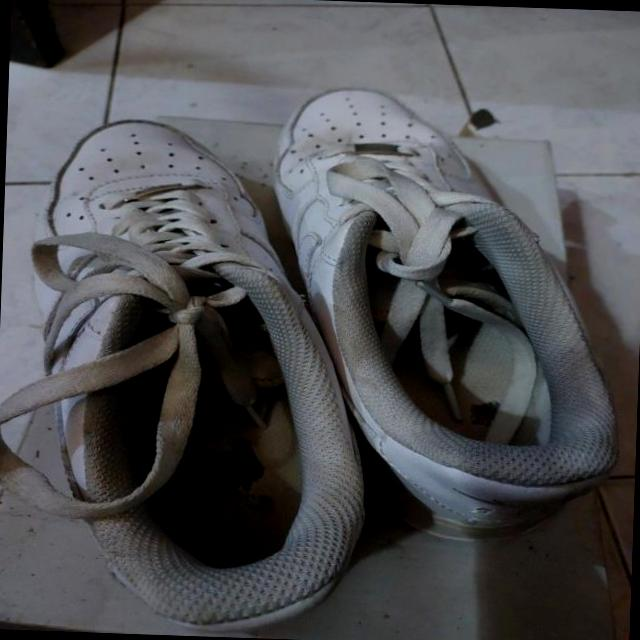nike_original_airforce: (24, 116, 380, 640), (237, 93, 590, 546)
